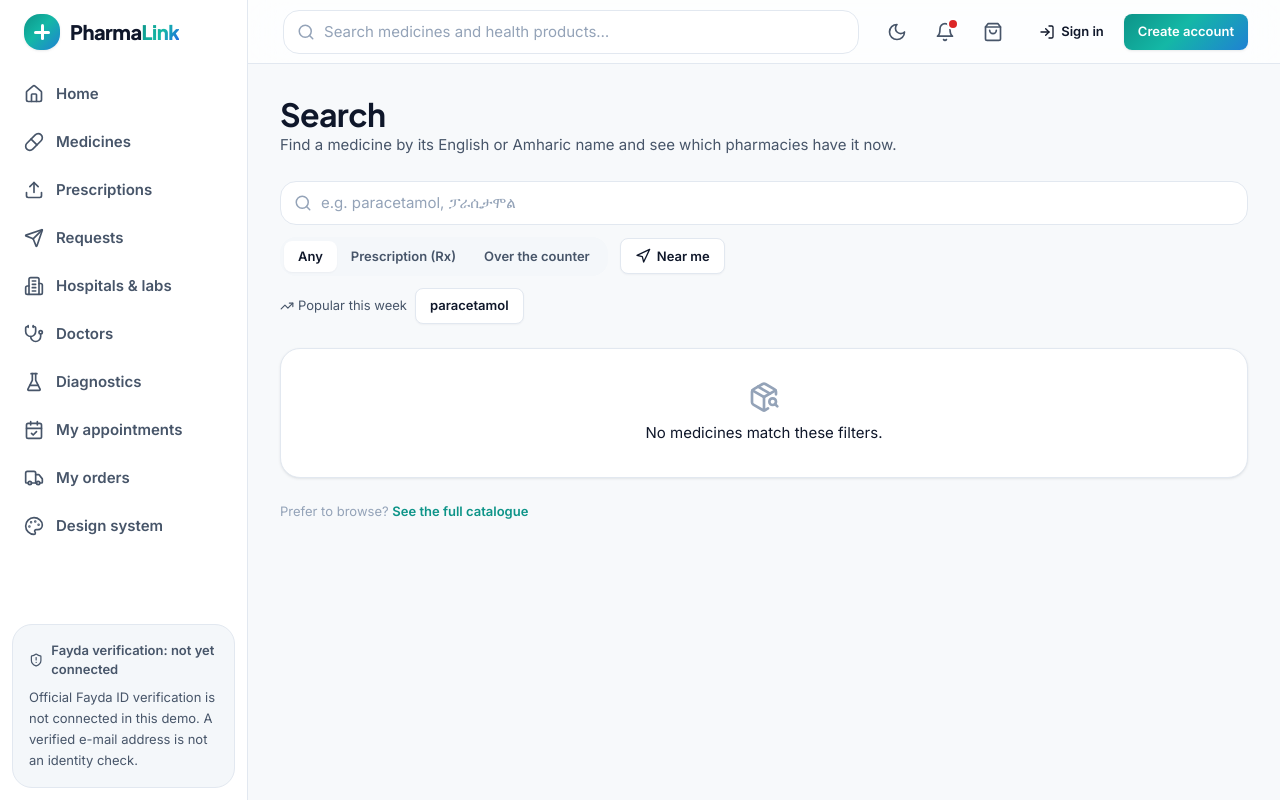
Test case: suggestions, close spellings and popular searches (Work 159) › shows this week’s popular searches while the box is empty, and runs one when tapped
Expected: the element "Popular this week" is shown, [280,288,524,324]
Click the button "paracetamol".
click(469, 306)  # box [415,288,524,324]
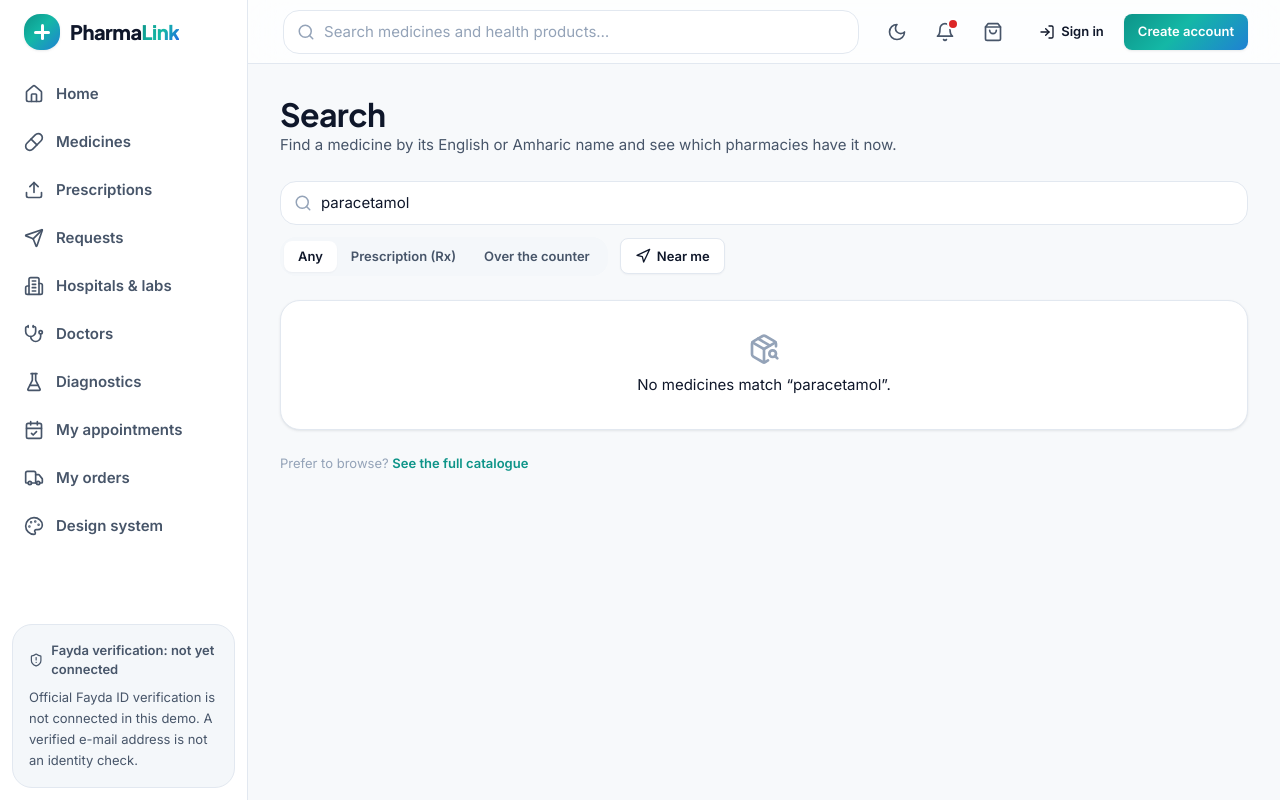
Expected: the element "Popular this week" is gone
